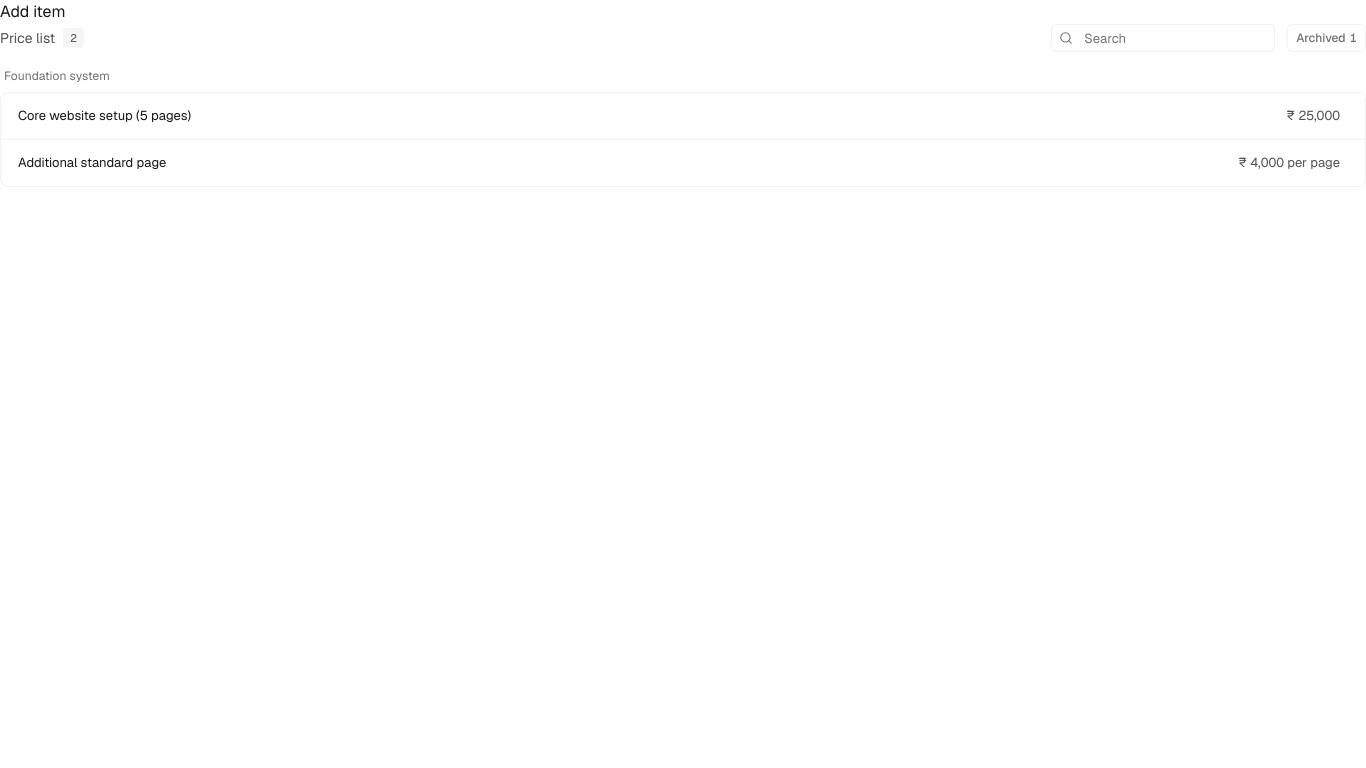
Test: editing one item › asks for a unit label only on a per-unit item
Step 1. Click the button "Core website setup (5 pages)" → (105, 116), box [17,105,1261,127]
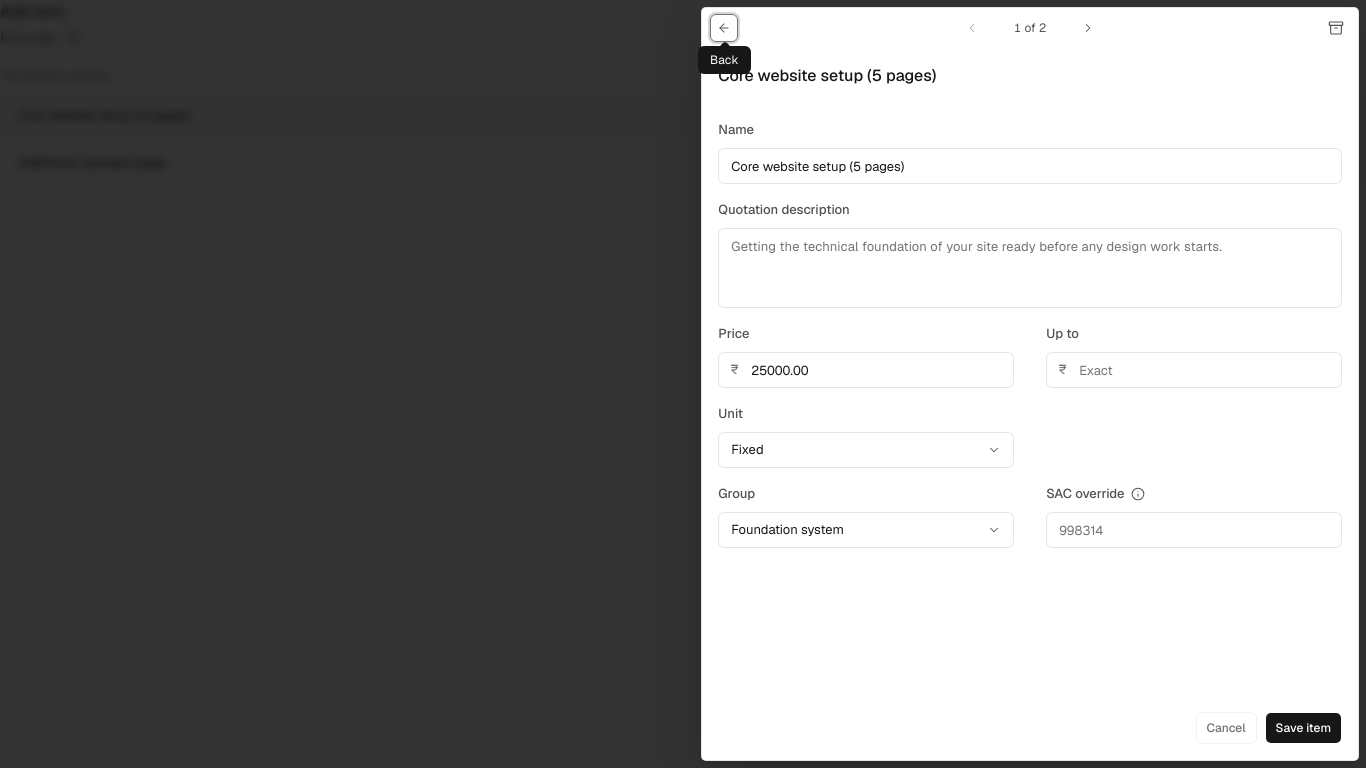
Check: the field labelled "Unit label" is not shown
Step 2. Click the button named "next" → (1088, 28), box [1074,14,1102,42]
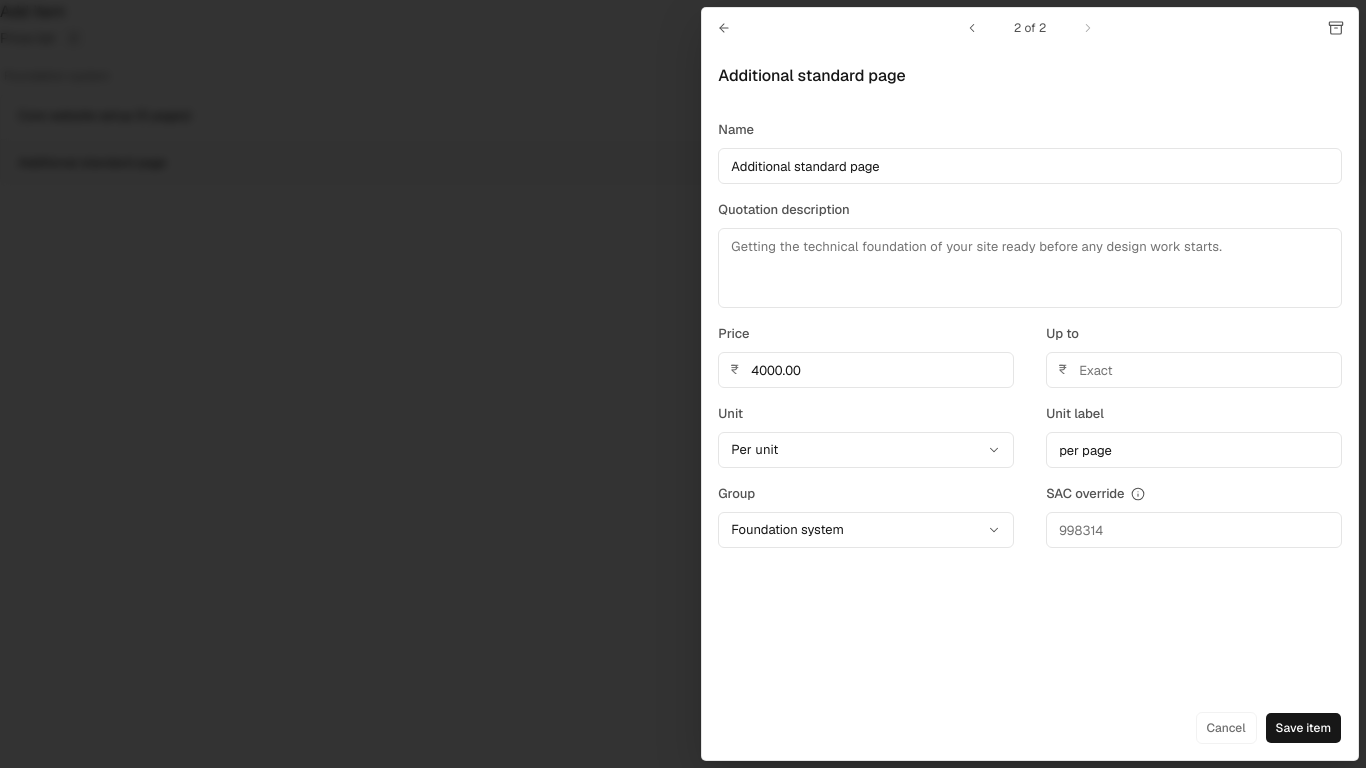
Check: the field labelled "Unit label" holds "per page", box [1046,432,1342,468]
